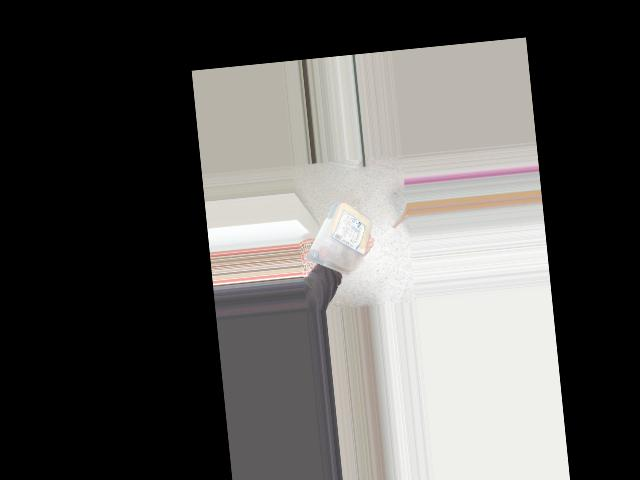cheese: (306, 195, 377, 277)
